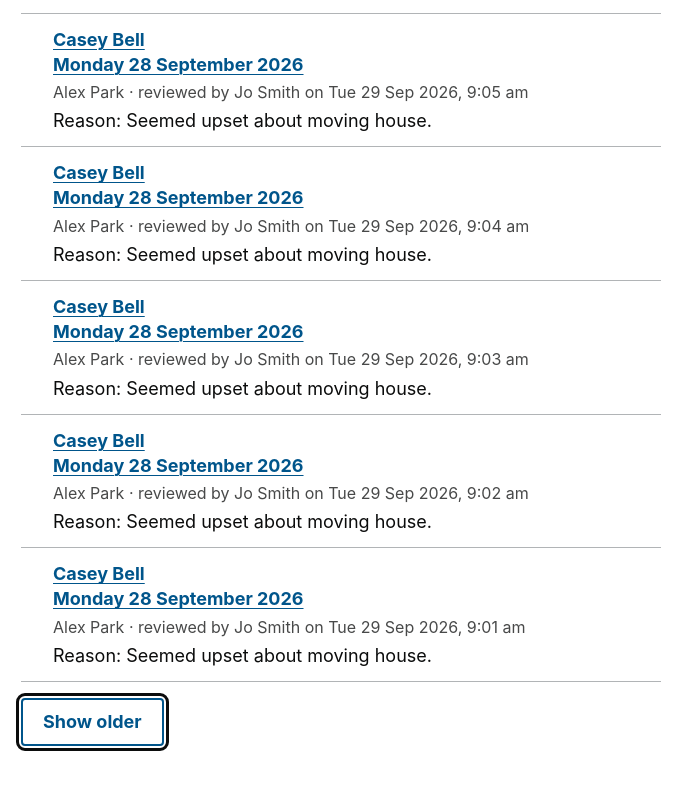
it: the Reviewed list › keeps the rows and says why when Show older failed, "still" when it fails again
The image size is (678, 799).
Click the button "Show older" at [92, 722], box [21,698,164,746]
Wait 1002 ms
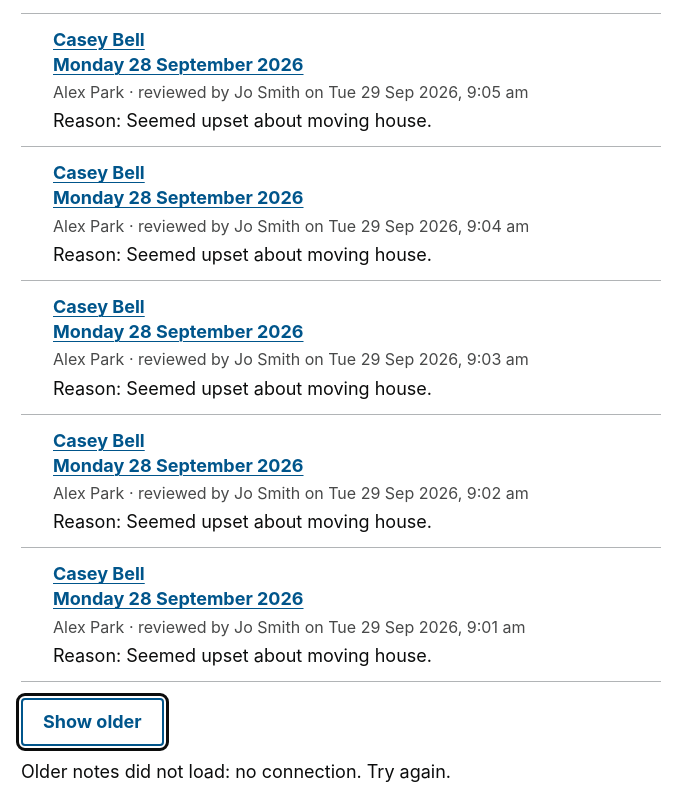
Expected: the text "Older notes did not load: no connection. Try again." is shown, [21,761,451,782]
Click the button "Show older" at [92, 722], box [21,698,164,746]
Wait 1002 ms
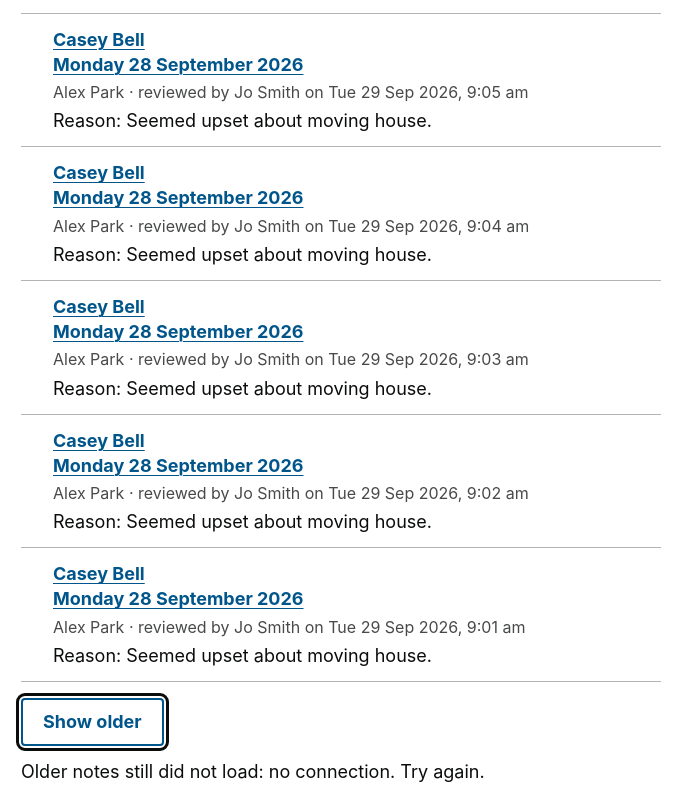
Expected: the text "Older notes still did not load: no connection. Try again." is shown, [21,761,485,782]
